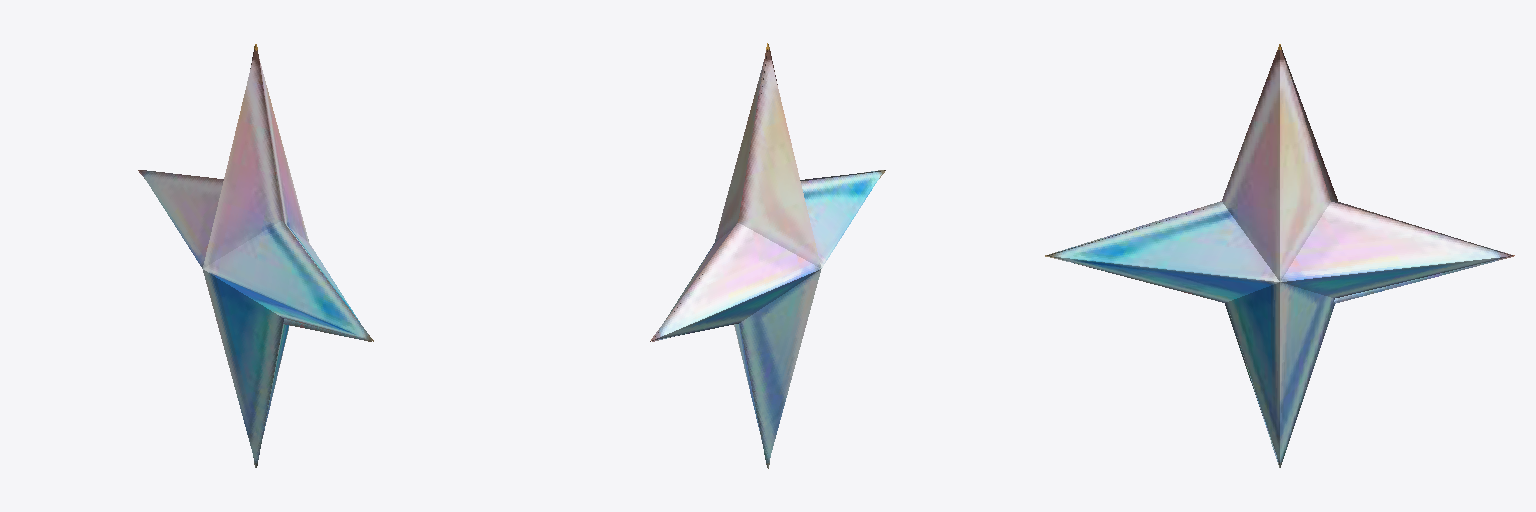
The picture shows the model from 3 angles: view 1: azimuth 30°, elevation 25°; view 2: azimuth 150°, elevation 25°; view 3: azimuth 270°, elevation 25°; orthographic projection.
Parts seen in each view (by area): view 1: 01_mesh; view 2: 01_mesh; view 3: 01_mesh.
Part boxes in pixels (x1,y1,x2,y2): 01_mesh: (138,44,373,467); 01_mesh: (650,43,885,468); 01_mesh: (1045,44,1514,467).
Size of the model in its own units: 0.0442 by 0.1684 by 0.1685.
1 materials, 1 textured.